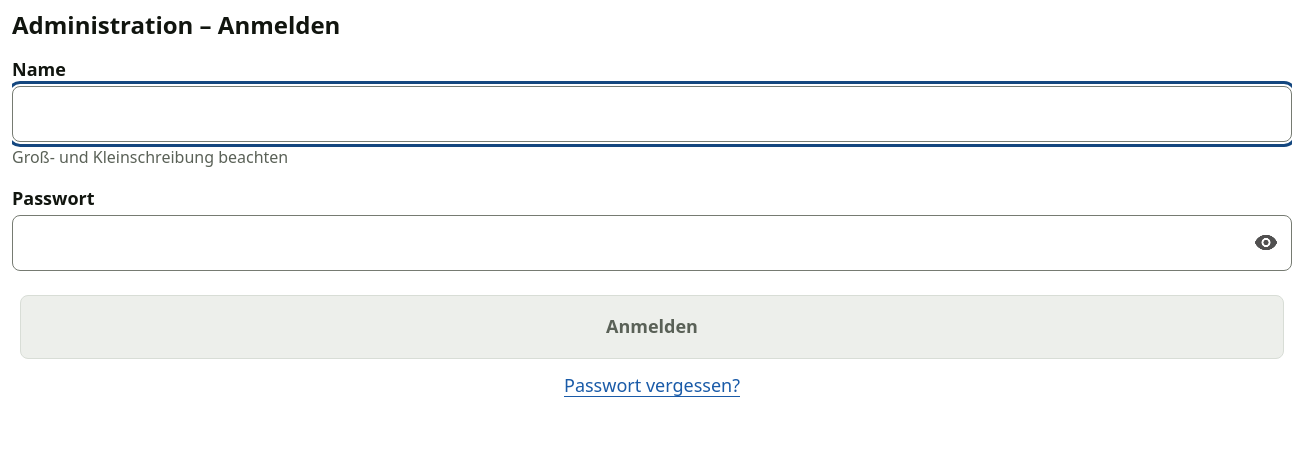
Test: AdminAnmeldung › Fehler › 429 PIN_GESPERRT: Text des Servers, „Anmelden" bleibt gesperrt
Step 1. Type "Beispieladmin" into the field with test id "admin-name" → (652, 114), box [12,86,1292,142]
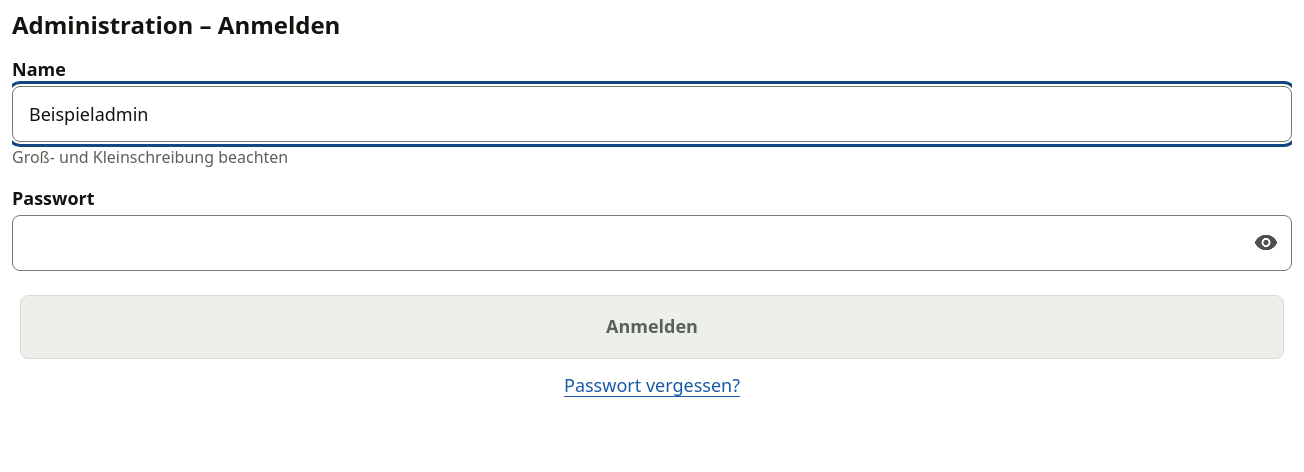
Step 2. Type "beispiel-passwort-01" into the password field with test id "admin-passwort" → (652, 243), box [12,215,1292,271]
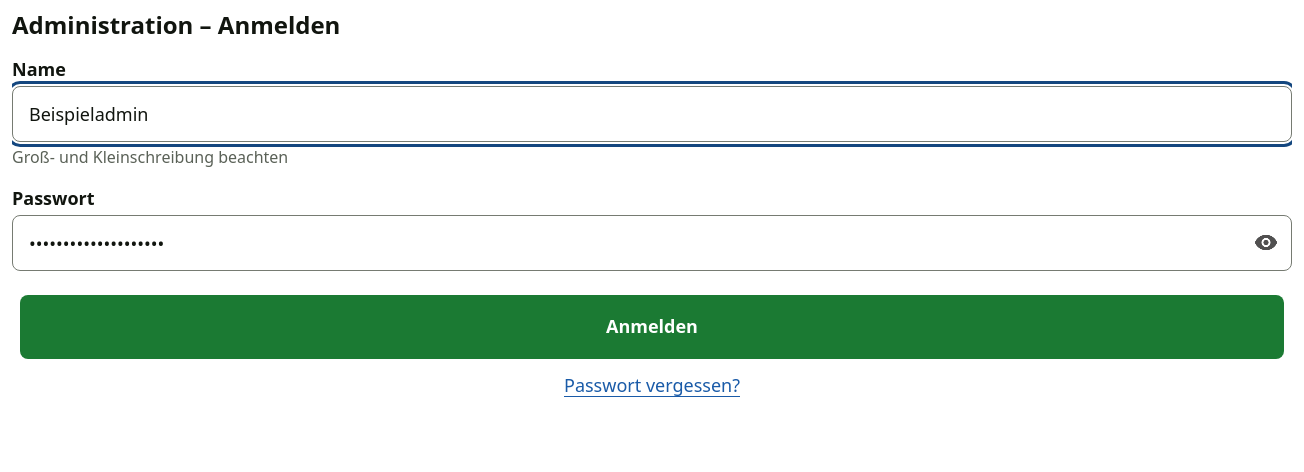
Step 3. Click the button with test id "admin-absenden" → (652, 327), box [20,295,1284,359]
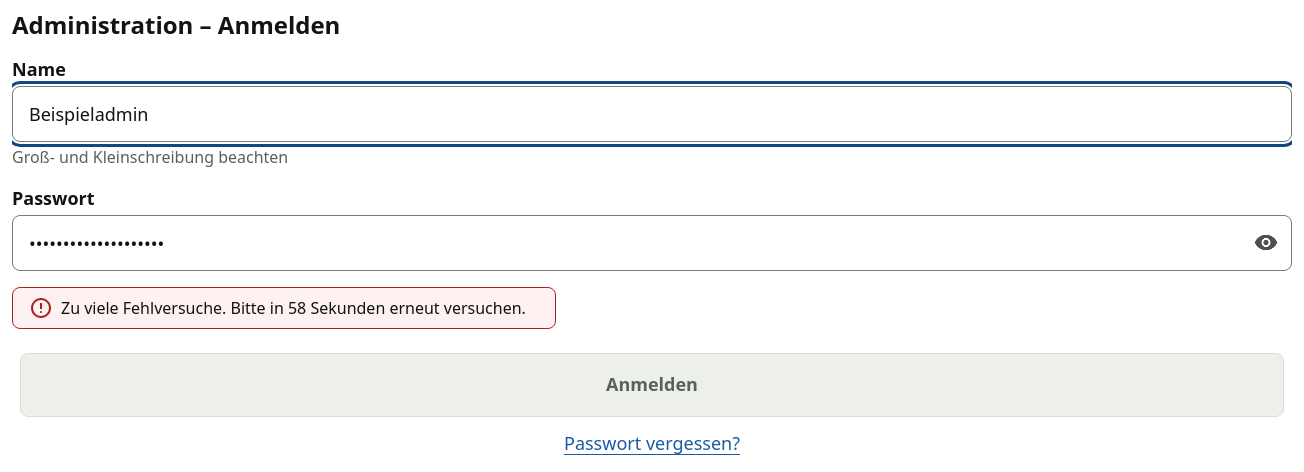
expect the message with test id "admin-fehler" reads "Zu viele Fehlversuche. Bitte in 58 Sekunden erneut versuchen.": met, box [61,297,526,319]
expect the button with test id "admin-absenden" is disabled: met, box [20,353,1284,417]
